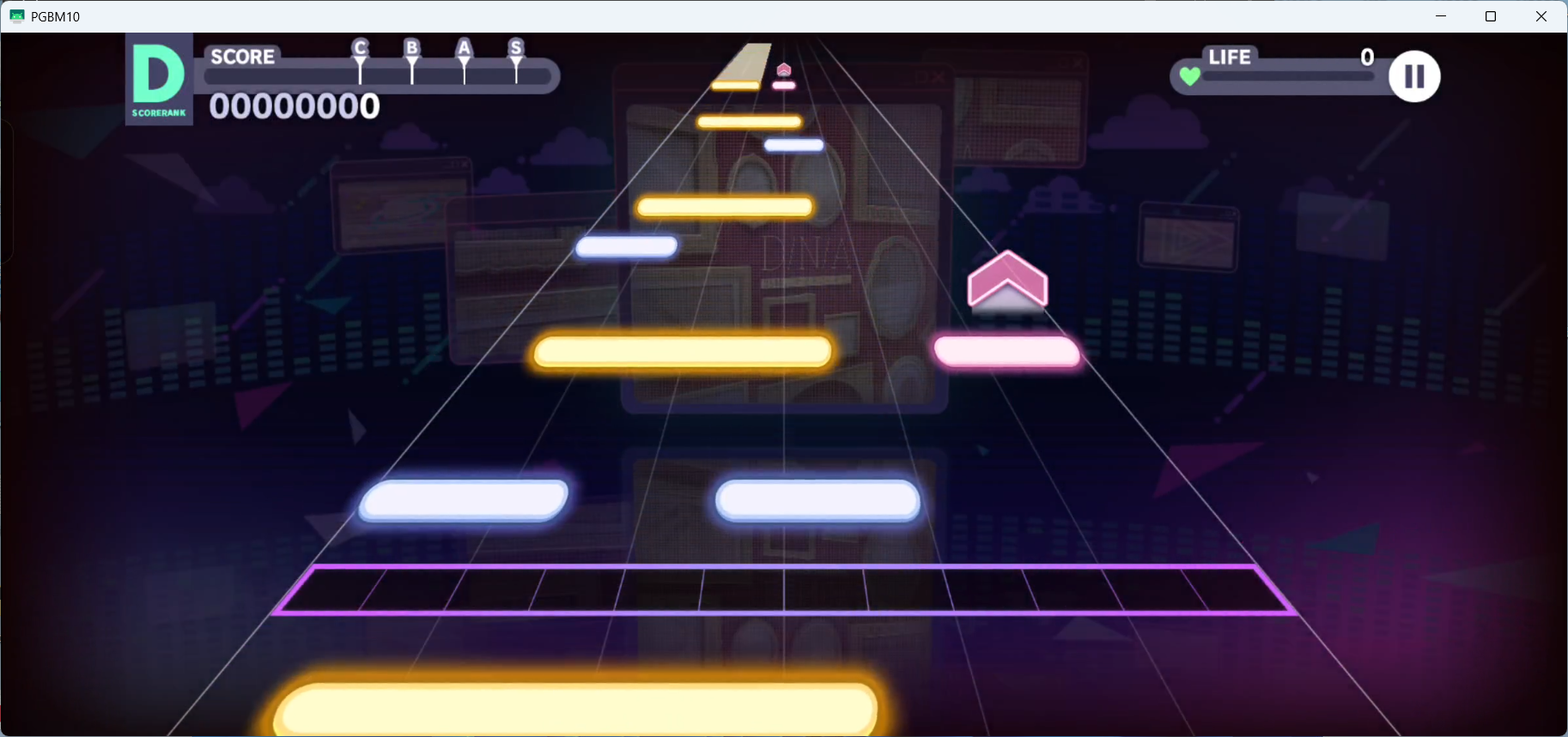flick: (966, 247, 1049, 317), (776, 62, 791, 76)
hold: (713, 42, 771, 82)
tap: (274, 683, 872, 737), (534, 336, 833, 369), (358, 480, 571, 523), (715, 479, 922, 523), (934, 337, 1079, 368), (637, 197, 811, 215), (576, 235, 677, 257), (698, 116, 800, 129), (764, 138, 824, 152), (711, 81, 760, 91), (772, 81, 796, 89)
